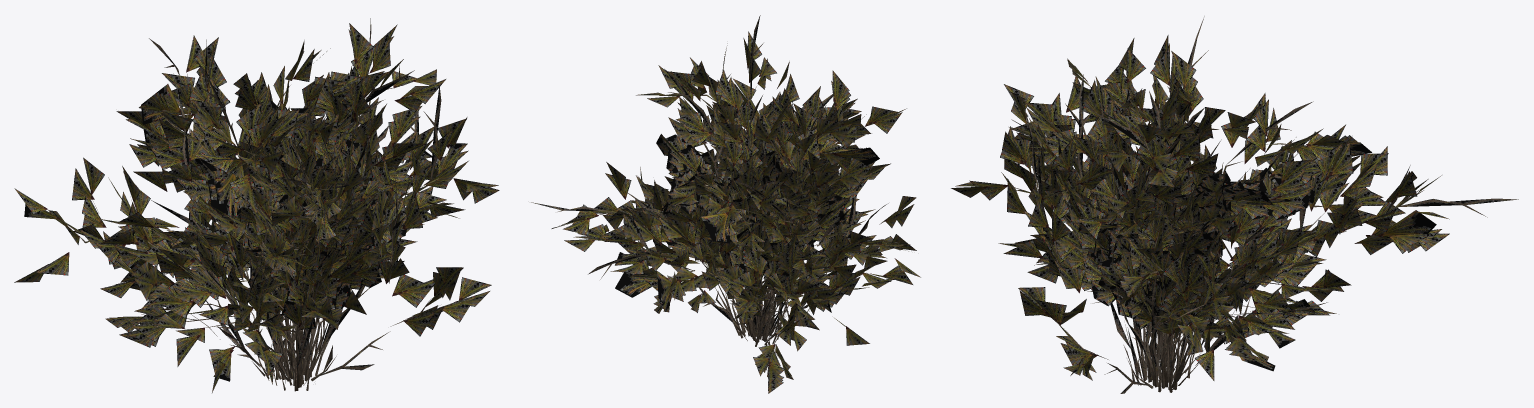
Rendered from wild_rooibos_bush.glb.
3 renders of one model, left to right at view 1: azimuth 30°, elevation 25°; view 2: azimuth 150°, elevation 25°; view 3: azimuth 270°, elevation 25°, orthographic. The views are drawn at different scales.
Visible parts, largest first — view 1: wild_rooibos_bush_a_lod0, wild_rooibos_bush_b_lod0, wild_rooibos_bush_c_lod0, wild_rooibos_bush_d_lod0, wild_rooibos_bush_e_lod0; view 2: wild_rooibos_bush_a_lod0, wild_rooibos_bush_b_lod0, wild_rooibos_bush_c_lod0, wild_rooibos_bush_d_lod0, wild_rooibos_bush_e_lod0; view 3: wild_rooibos_bush_a_lod0, wild_rooibos_bush_b_lod0, wild_rooibos_bush_d_lod0, wild_rooibos_bush_c_lod0, wild_rooibos_bush_e_lod0.
Part boxes in pixels (x1,y1,x2,y2): wild_rooibos_bush_a_lod0: (14, 18, 499, 392); wild_rooibos_bush_b_lod0: (105, 56, 491, 385); wild_rooibos_bush_c_lod0: (151, 129, 400, 390); wild_rooibos_bush_d_lod0: (221, 96, 424, 387); wild_rooibos_bush_e_lod0: (241, 197, 387, 379); wild_rooibos_bush_a_lod0: (531, 15, 920, 351); wild_rooibos_bush_b_lod0: (605, 70, 887, 393); wild_rooibos_bush_c_lod0: (616, 94, 890, 346); wild_rooibos_bush_d_lod0: (656, 116, 851, 342); wild_rooibos_bush_e_lod0: (728, 195, 845, 340); wild_rooibos_bush_a_lod0: (951, 51, 1518, 387); wild_rooibos_bush_b_lod0: (1018, 16, 1336, 393); wild_rooibos_bush_d_lod0: (1063, 142, 1315, 389); wild_rooibos_bush_c_lod0: (1009, 76, 1326, 392); wild_rooibos_bush_e_lod0: (1078, 214, 1181, 381).
Size of what is drawn, in the model's own units: 0.6852 by 0.533 by 0.8279.
Materials: 1 (1 with a texture image).
